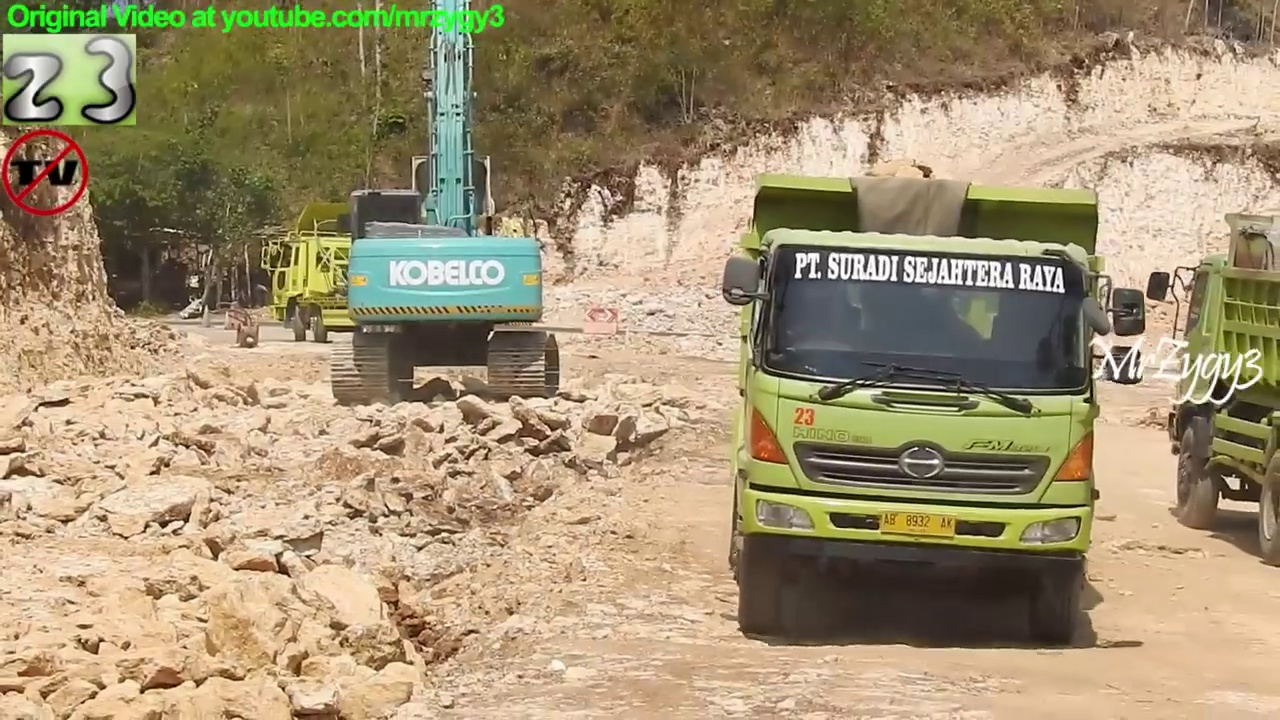excavator: (329, 1, 565, 402)
truck: (716, 165, 1146, 648), (1144, 217, 1280, 570), (255, 199, 554, 345)
